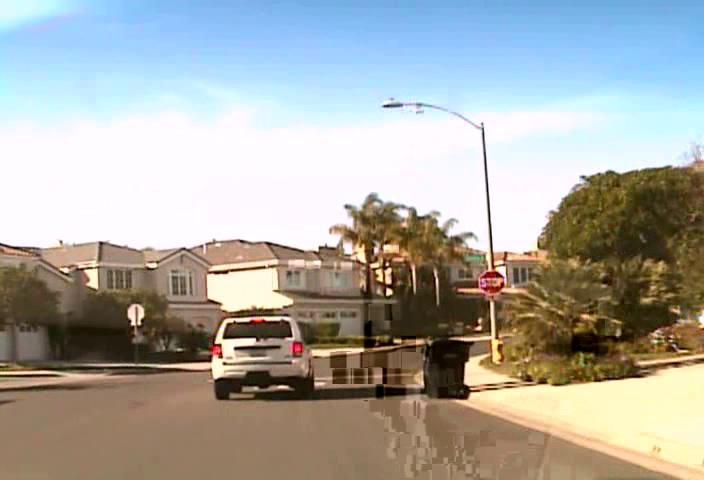stop: (478, 269, 505, 294)
